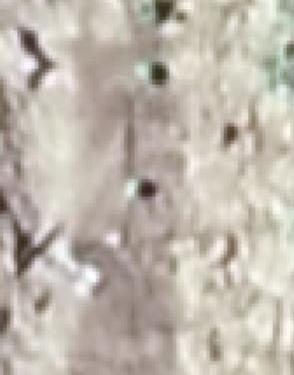cotton: (136, 61, 152, 81), (128, 180, 139, 198)
